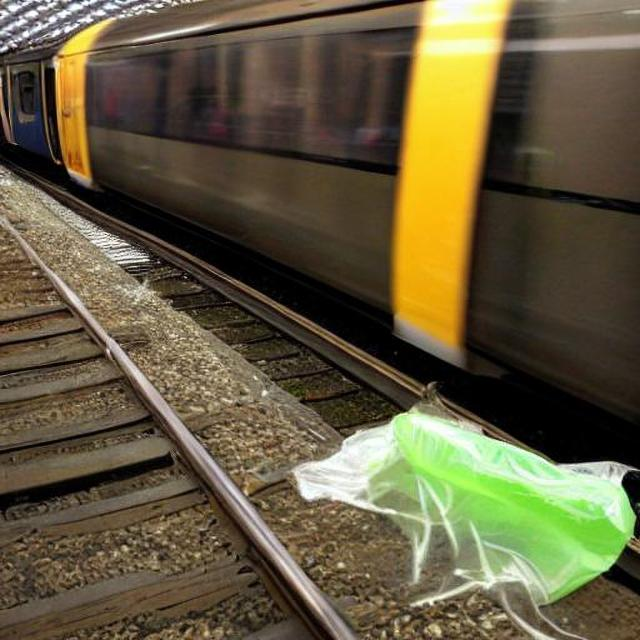plastic bag: (304, 400, 636, 600)
